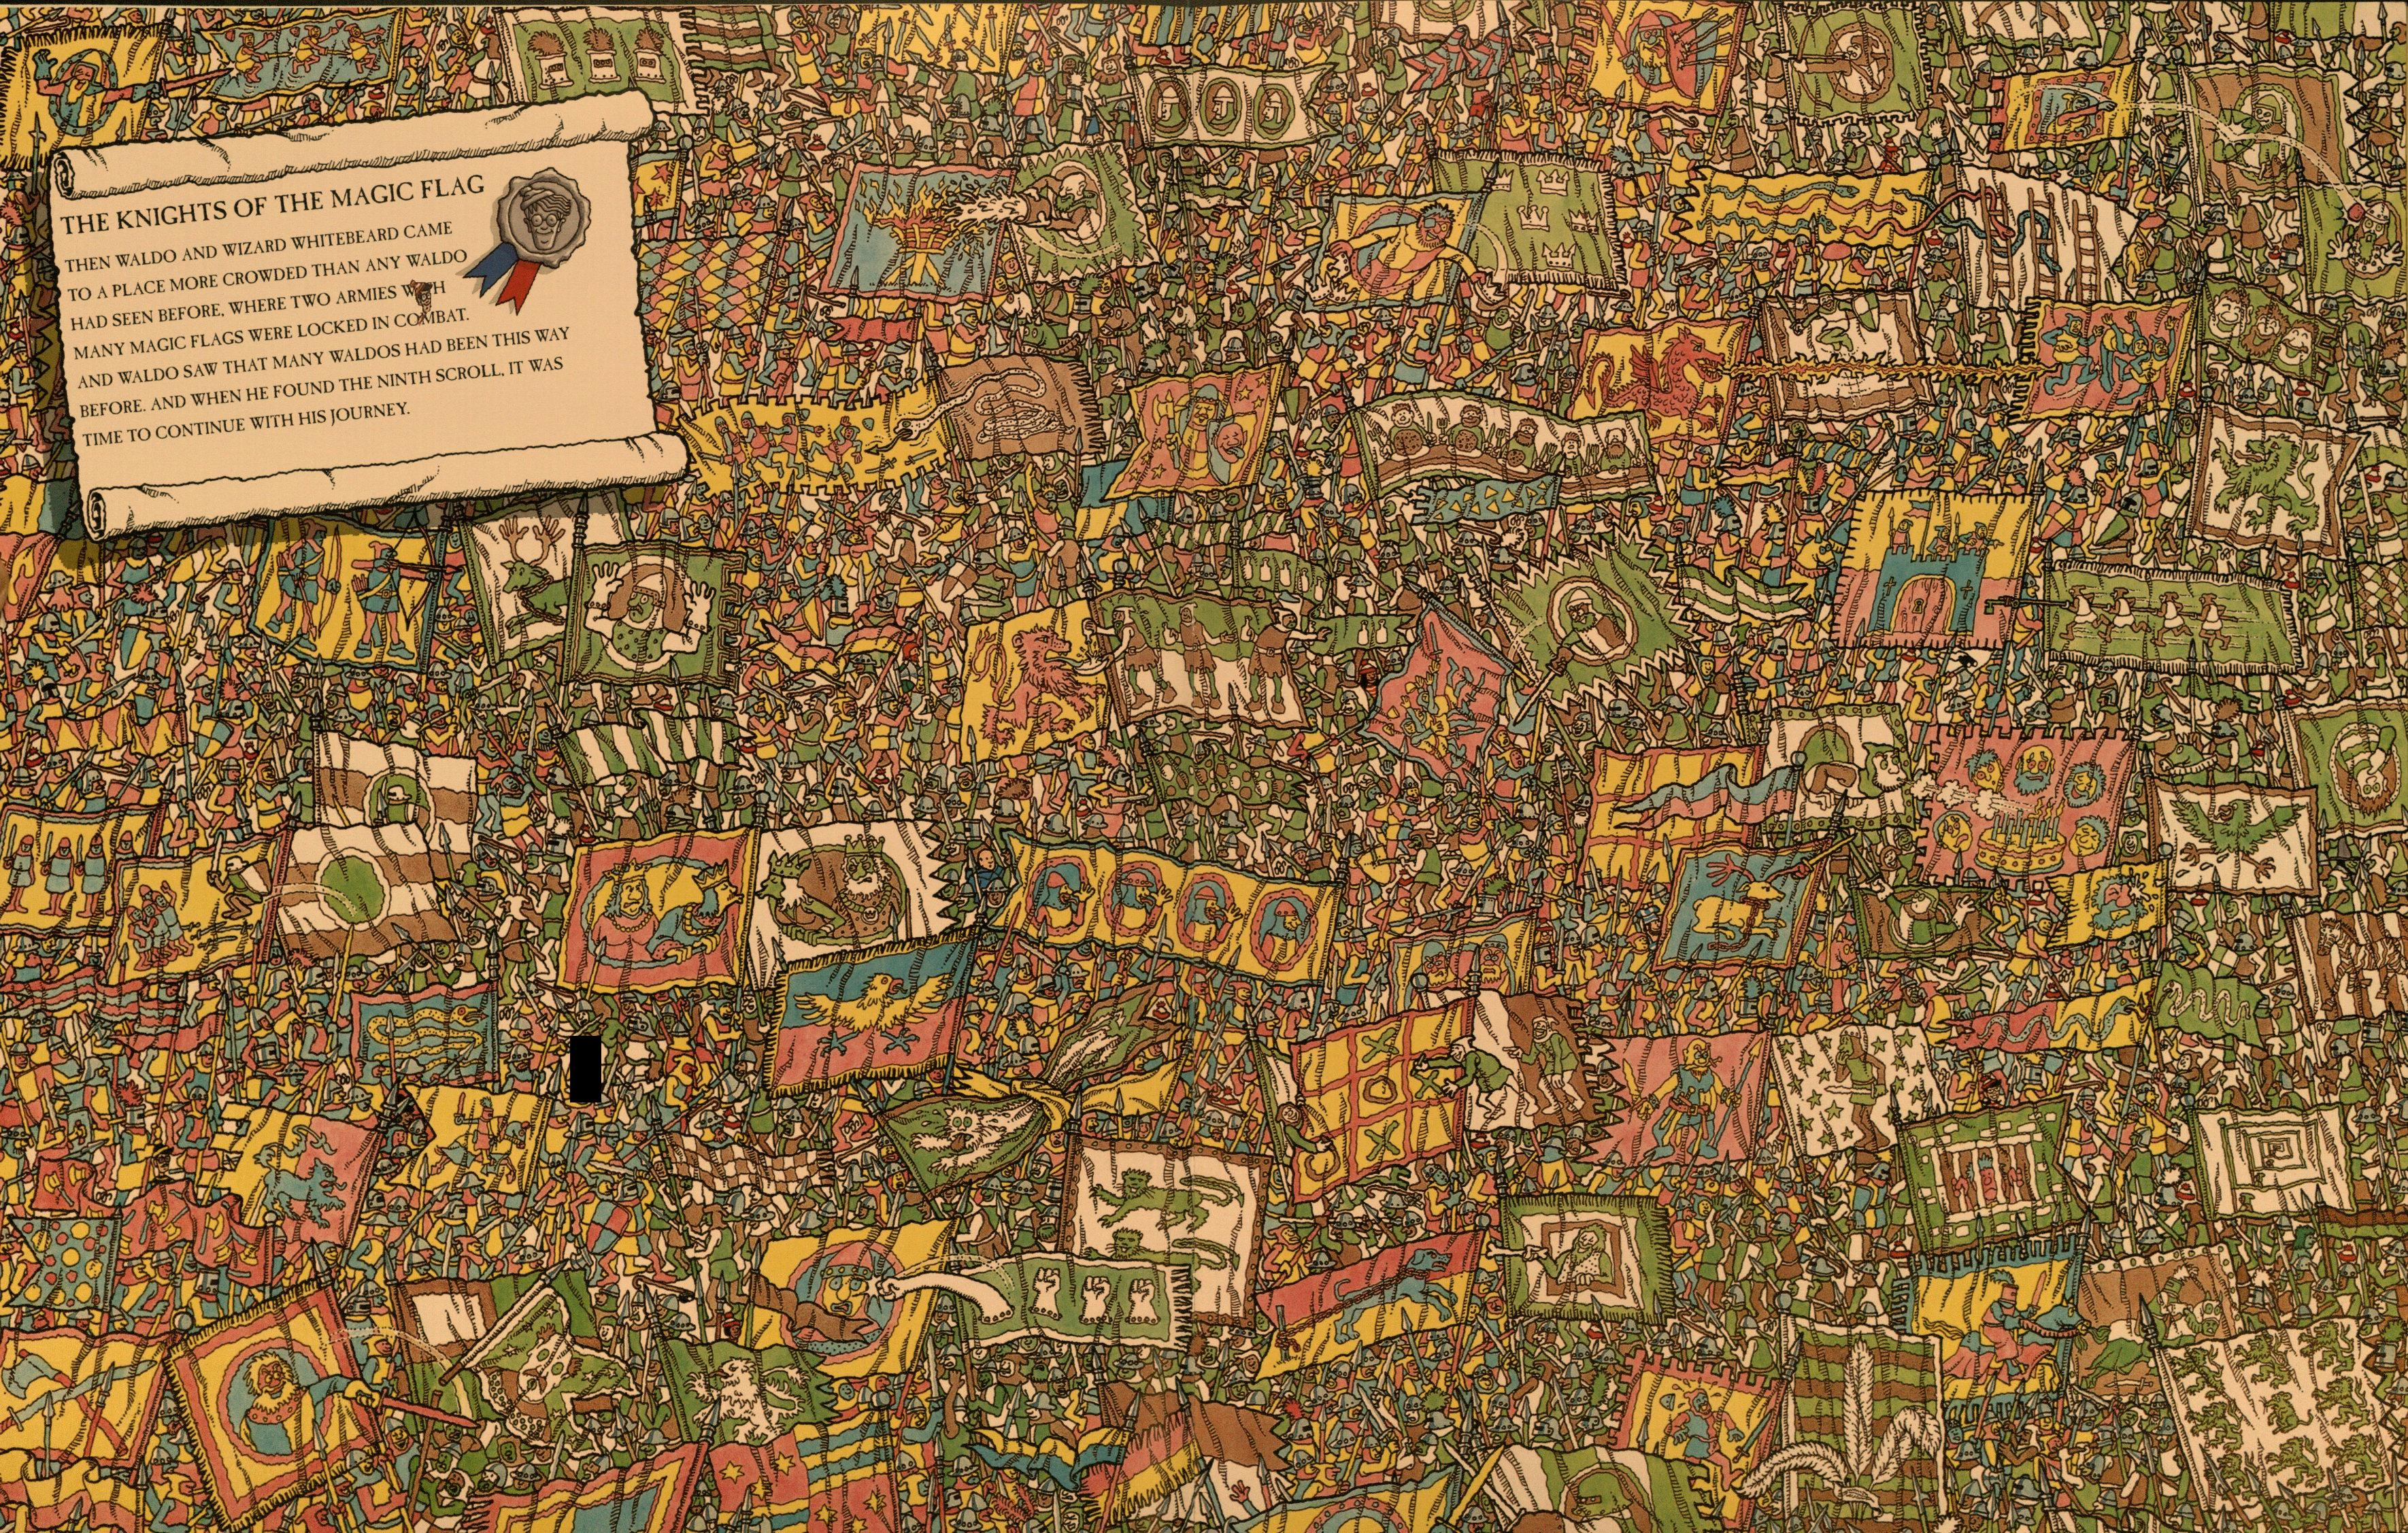waldos: (405, 274, 437, 340)
